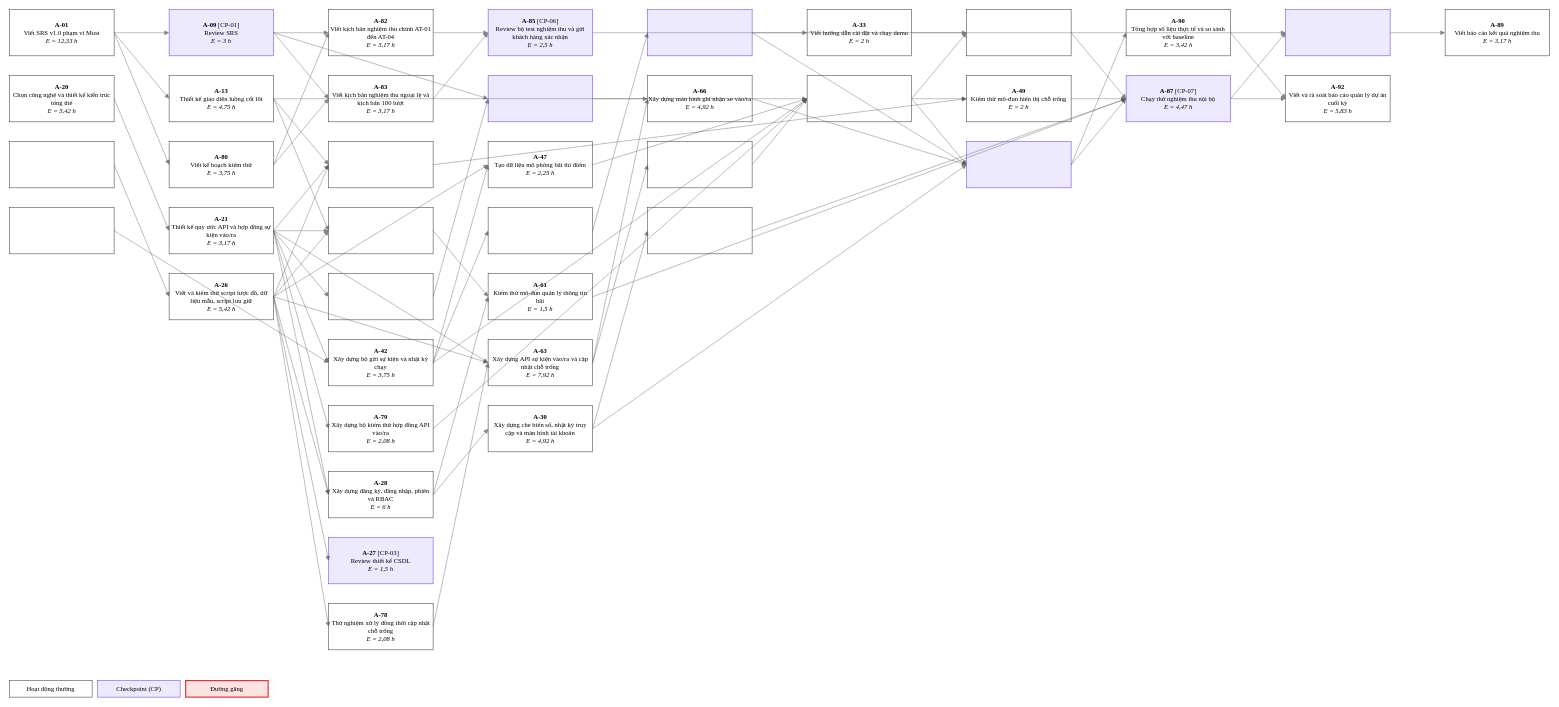
Some shapes in this 1559 by 707 pixel diagram are drawn without their labels. The shapes that lost their labels are listed below. From the top down, each one's centre as x and y in pixels, then its label:
At (699,32): "A-45 [CP-04] Kiểm thử và review bộ mô phỏng E = 2 h".
At (1018,32): "A-95 Chạy thử sớm AT-01, AT-02 và kịch bản 100 lượt E = 2,17 h".
At (1337,32): "A-88 [CP-08] Trình diễn nghiệm thu với khách hàng E = 2,83 h".
At (540,98): "A-23 [CP-02] Review kiến trúc và API E = 2 h".
At (859,98): "A-67 Tích hợp mô-đun xe ra/vào với bộ mô phỏng E = 2,75 h".
At (61,164): "A-24 Thiết kế ERD và từ điển dữ liệu E = 5,83 h".
At (380,164): "A-48 Xây dựng mô-đun hiển thị tình trạng chỗ đỗ E = 7 h".
At (699,164): "A-65 Xây dựng xử lý 5 ngoại lệ xe vào/ra E = 5,83 h".
At (1018,164): "A-68 [CP-05] Kiểm thử mô-đun xe ra/vào E = 3,17 h".
At (61,230): "A-40 Xây dựng cấu hình, bộ sinh dữ liệu giả và bộ sinh sự kiện E = 4,75 h".
At (380,230): "A-60 Xây dựng mô-đun quản lý thông tin bãi E = 7,92 h".
At (540,230): "A-43 Xây dựng kịch bản mô phỏng và README E = 4,17 h".
At (699,230): "A-31 Kiểm thử mô-đun xác thực và phân quyền E = 2 h".
At (380,296): "A-22 Đặc tả API mô-đun cốt lõi E = 4,83 h".
